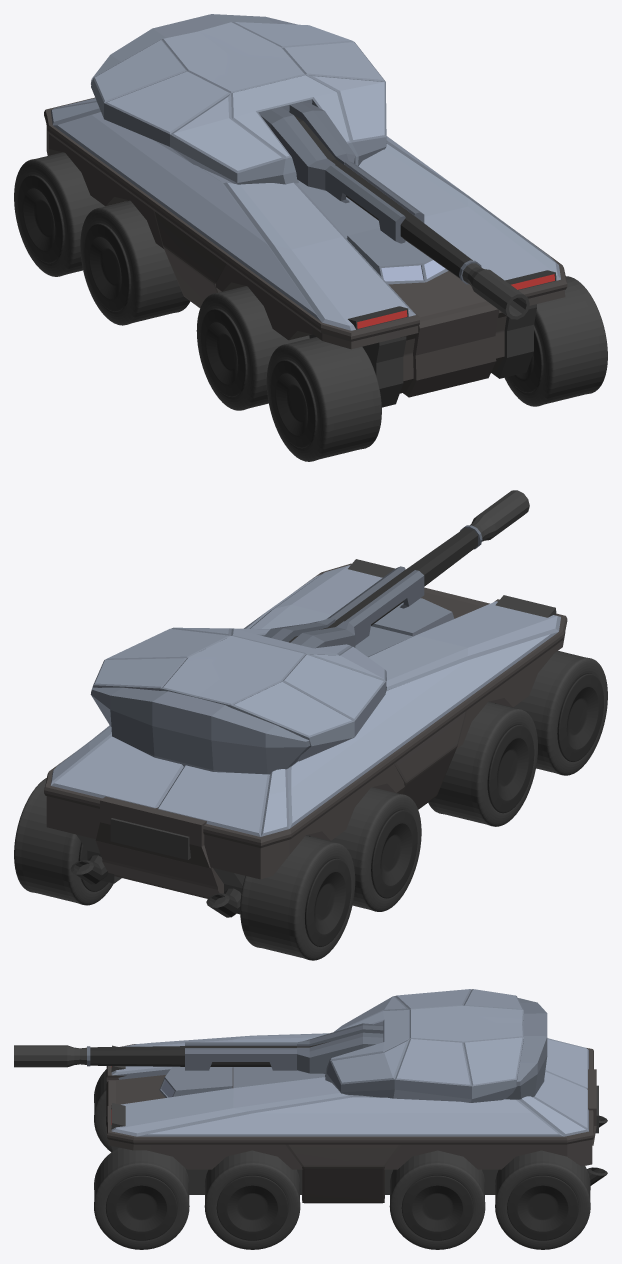
The model's file is light_tank.fbx.
3 views of the same model, one above another, from view 1: azimuth 30°, elevation 25°; view 2: azimuth 150°, elevation 25°; view 3: azimuth 270°, elevation 25° (orthographic). The views are drawn at different scales.
Visible parts, largest first — view 1: Plane, Head, Wheel_L1, Cube.031, Body, Wheel_L1.002, Cube.032, Wheel_L1.001, Wheel_L1.003, Cylinder.032, N, Cube.006 (+12 smaller); view 2: Plane, Head, Wheel_L1.003, Body, Plane.008, Wheel_L1.001, Cube.032, Wheel_L1, Wheel_L1.002, Cylinder.004, Cube.040, Cube.006 (+14 smaller); view 3: Plane, Head, Body, Wheel_L1, Cube.006, Cube.032, Wheel_L1.003, Wheel_L1.002, Wheel_L1.001, Cylinder.032, Cylinder.002, Cylinder.003 (+12 smaller).
Part boxes in pixels (<box>): Plane: <box>51,98,560,330</box>; Head: <box>91,22,386,184</box>; Wheel_L1: <box>266,276,607,461</box>; Cube.031: <box>403,301,499,397</box>; Body: <box>46,127,565,393</box>; Wheel_L1.002: <box>80,200,190,325</box>; Cube.032: <box>44,97,567,341</box>; Wheel_L1.001: <box>196,286,309,410</box>; Wheel_L1.003: <box>14,152,125,276</box>; Cylinder.032: <box>270,326,543,448</box>; N: <box>127,200,536,407</box>; Cube.006: <box>153,210,226,307</box>; Plane: <box>51,565,560,836</box>; Head: <box>92,627,386,761</box>; Wheel_L1.003: <box>14,778,355,960</box>; Body: <box>46,632,565,898</box>; Plane.008: <box>90,687,309,774</box>; Wheel_L1.001: <box>428,702,537,826</box>; Cube.032: <box>44,563,567,848</box>; Wheel_L1: <box>495,651,607,775</box>; Wheel_L1.002: <box>309,787,421,911</box>; Cylinder.004: <box>78,842,351,946</box>; Cube.040: <box>95,796,210,868</box>; Cube.006: <box>394,710,466,809</box>; Plane: <box>111,1033,588,1136</box>; Head: <box>325,989,523,1102</box>; Body: <box>108,1139,592,1169</box>; Wheel_L1: <box>94,1069,189,1249</box>; Cube.006: <box>286,1144,400,1203</box>; Cube.032: <box>106,1044,593,1144</box>; Wheel_L1.003: <box>495,1150,590,1249</box>; Wheel_L1.002: <box>389,1150,485,1249</box>; Wheel_L1.001: <box>204,1150,300,1249</box>; Cylinder.032: <box>105,1115,177,1240</box>; Cylinder.002: <box>216,1175,288,1240</box>; Cylinder.003: <box>401,1175,473,1240</box>.
Size of the model in its own units: 644 by 460 by 1434.
